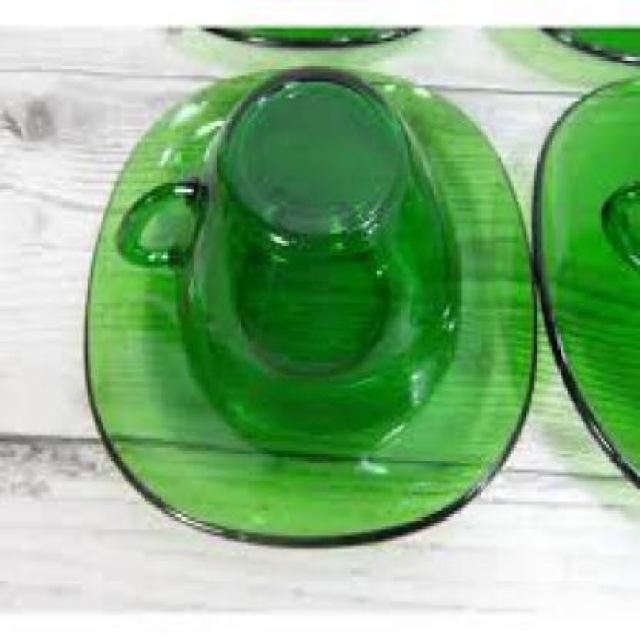kaca: (83, 63, 534, 546), (114, 57, 460, 451), (532, 69, 638, 489), (598, 162, 637, 282)
